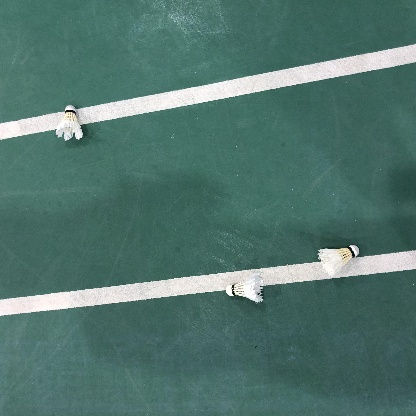ball_single: (317, 245, 359, 277), (226, 273, 263, 303), (56, 105, 84, 141)
